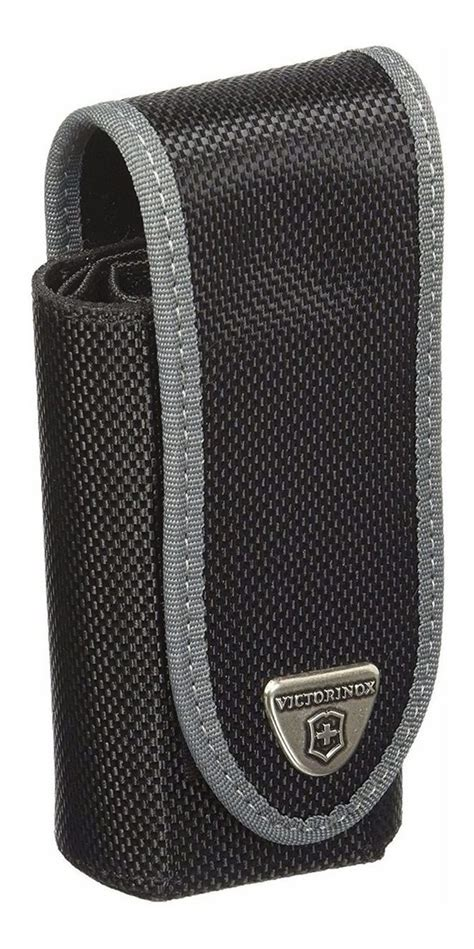nylon: (32, 46, 447, 905)
